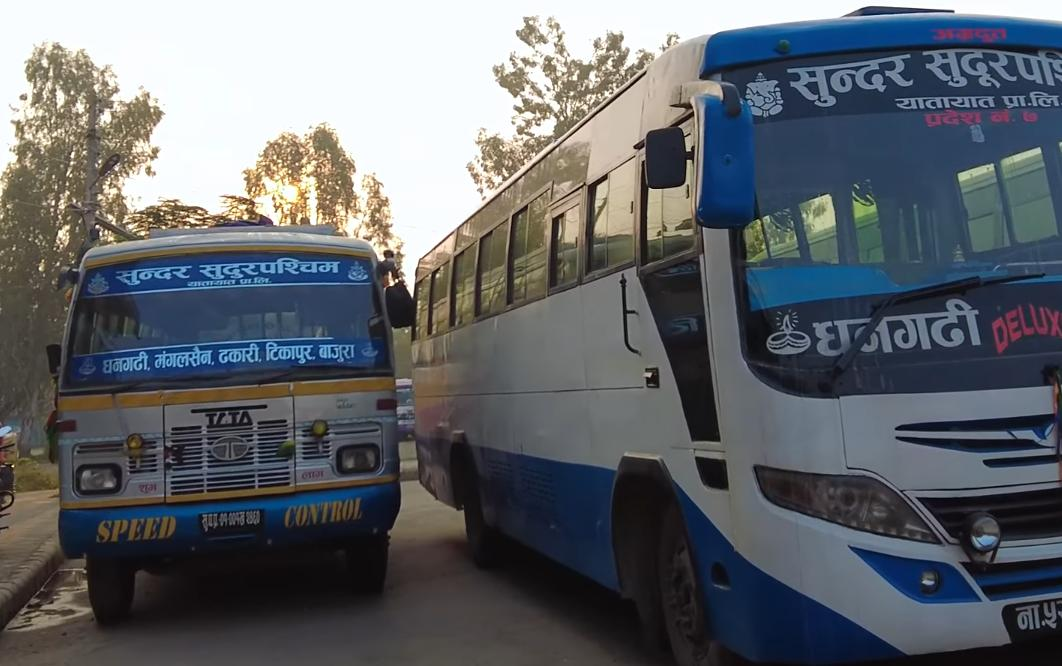bus: (386, 5, 1062, 666), (39, 209, 418, 637)
